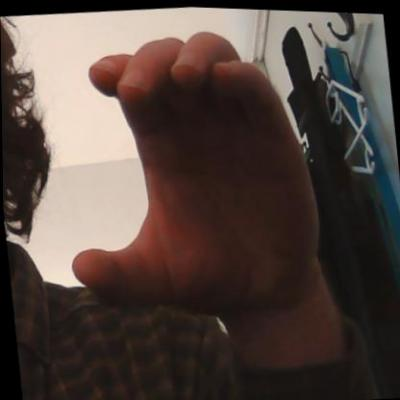hand: (47, 13, 335, 323)
